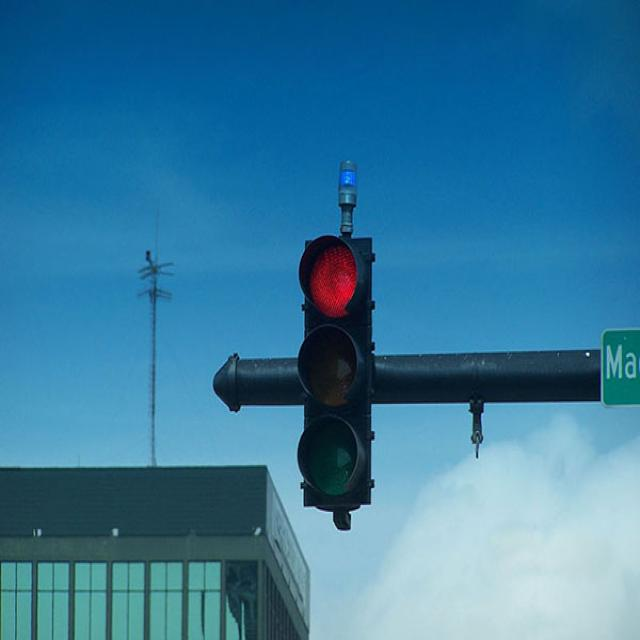red: (304, 243, 373, 501)
